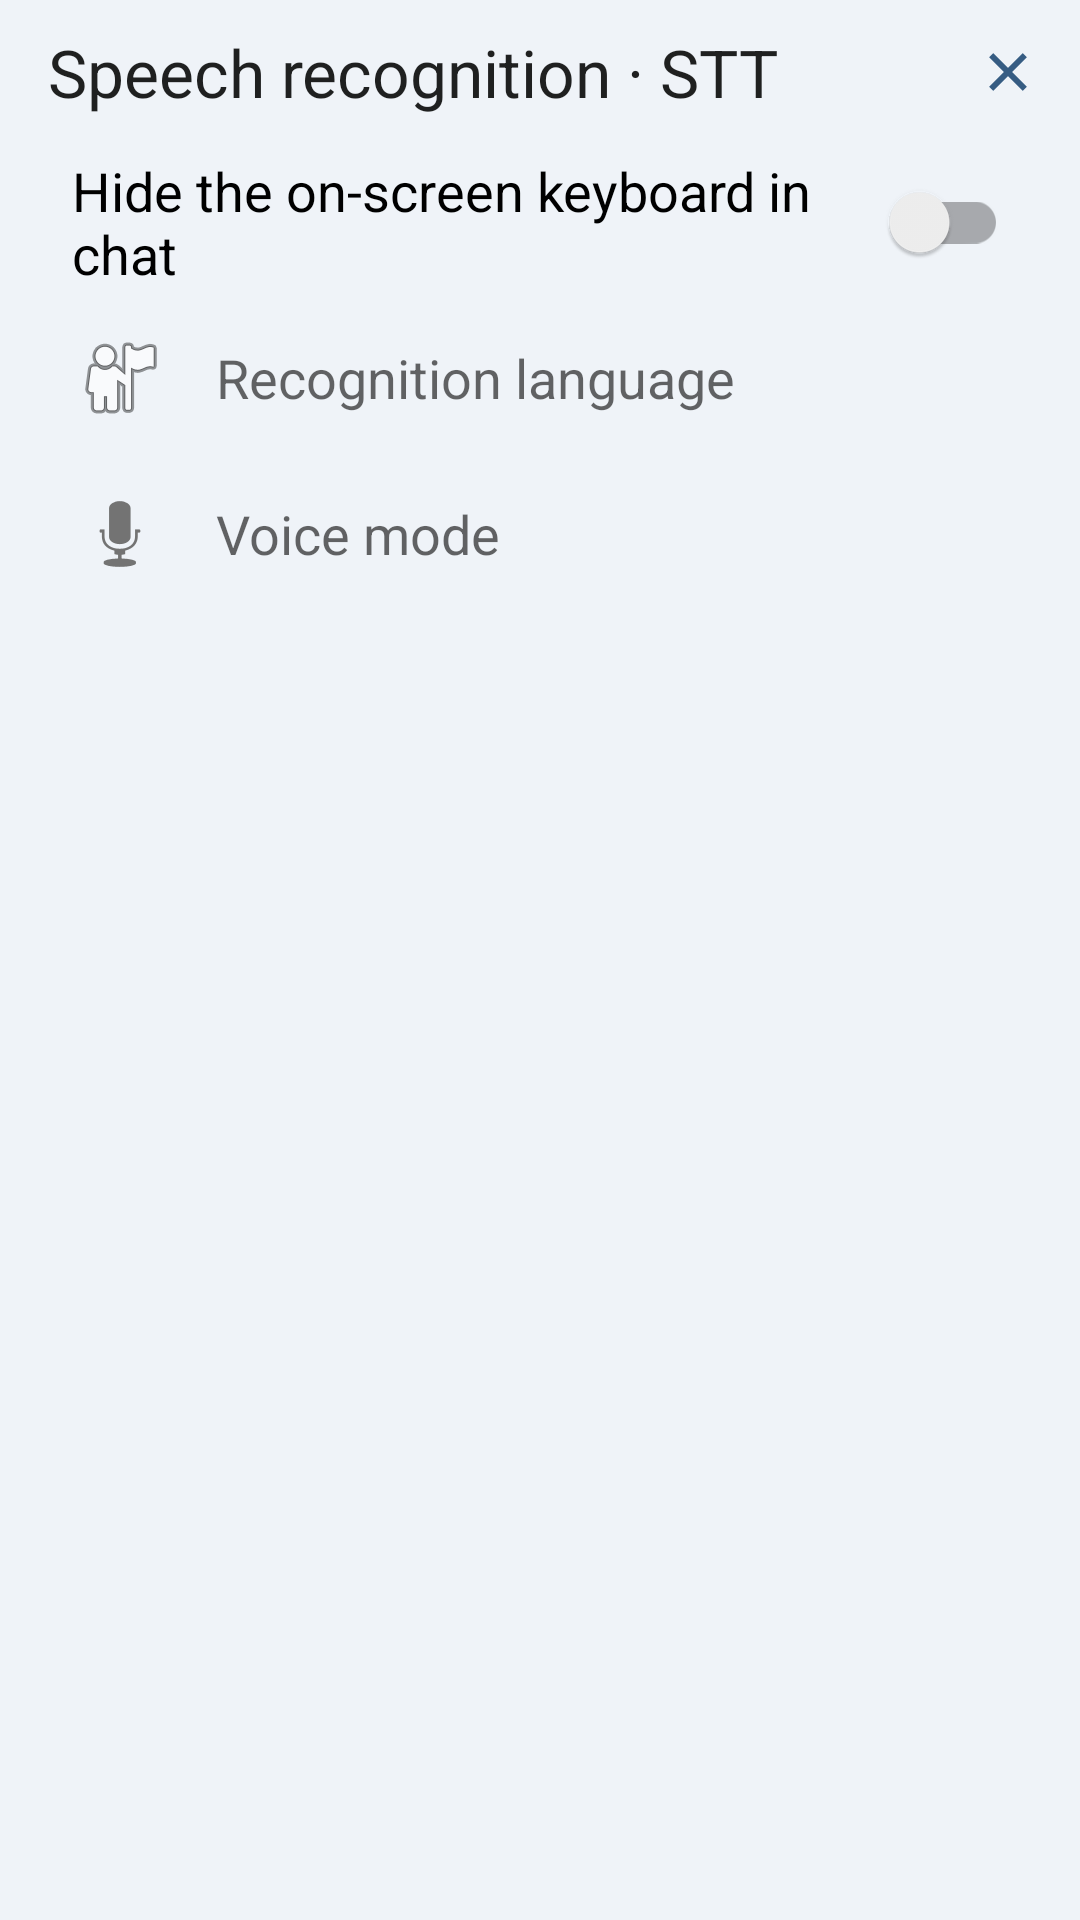

Screen size 1080px×1920px. Icon name, then its center in pixels as (x=x, y=y):
Back to settings: (x=1008, y=72)
